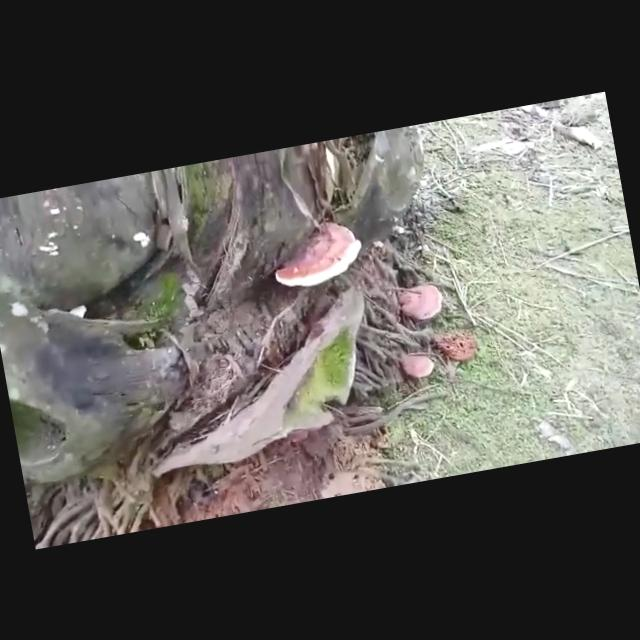ganoderma: (265, 214, 371, 296), (395, 281, 450, 326), (398, 347, 439, 383)
primordium: (131, 230, 154, 253)
